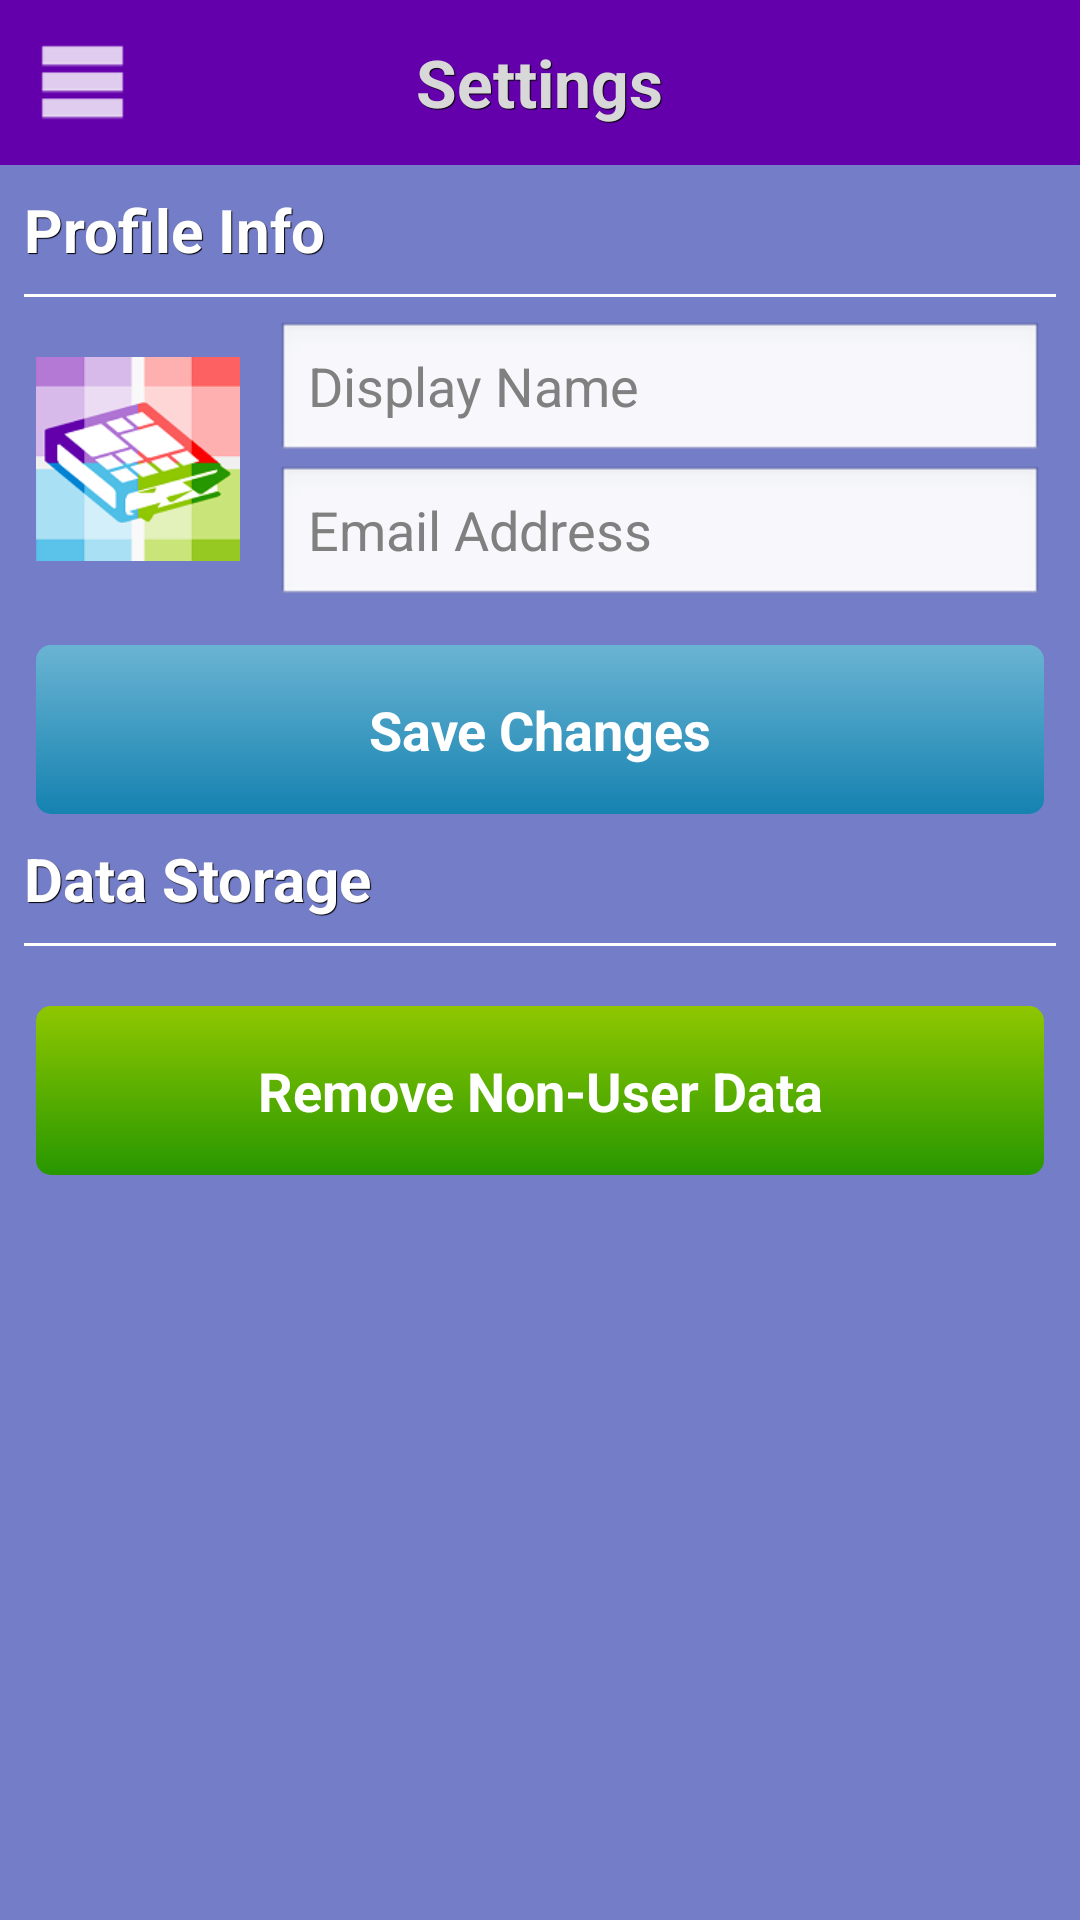

Where icons sit on this 1080*1920 app screen, as (x1, y1, x2, y2):
Menu: (41, 45, 124, 119)
